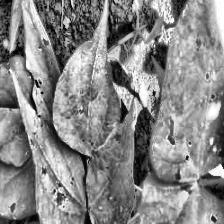ALS: (0, 0, 85, 224), (150, 0, 224, 183), (138, 171, 224, 224)
